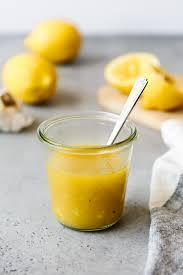lemon: (3, 53, 58, 104), (23, 19, 82, 64), (104, 52, 160, 95), (141, 64, 183, 112)
